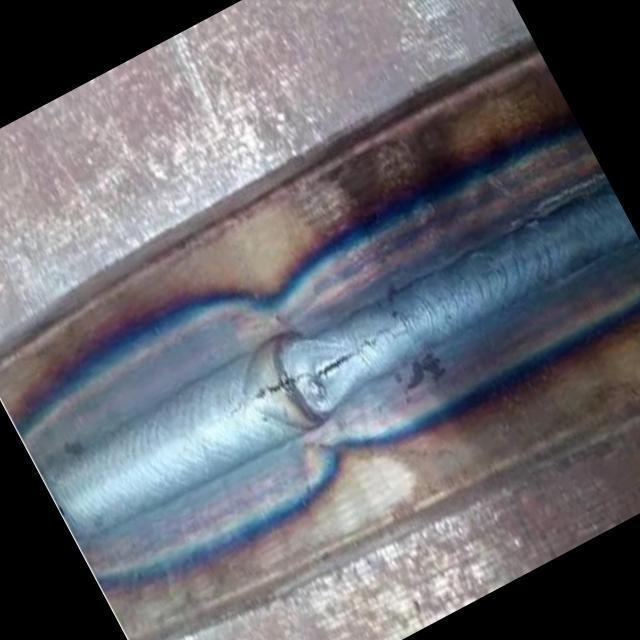defect: (246, 314, 412, 405)
